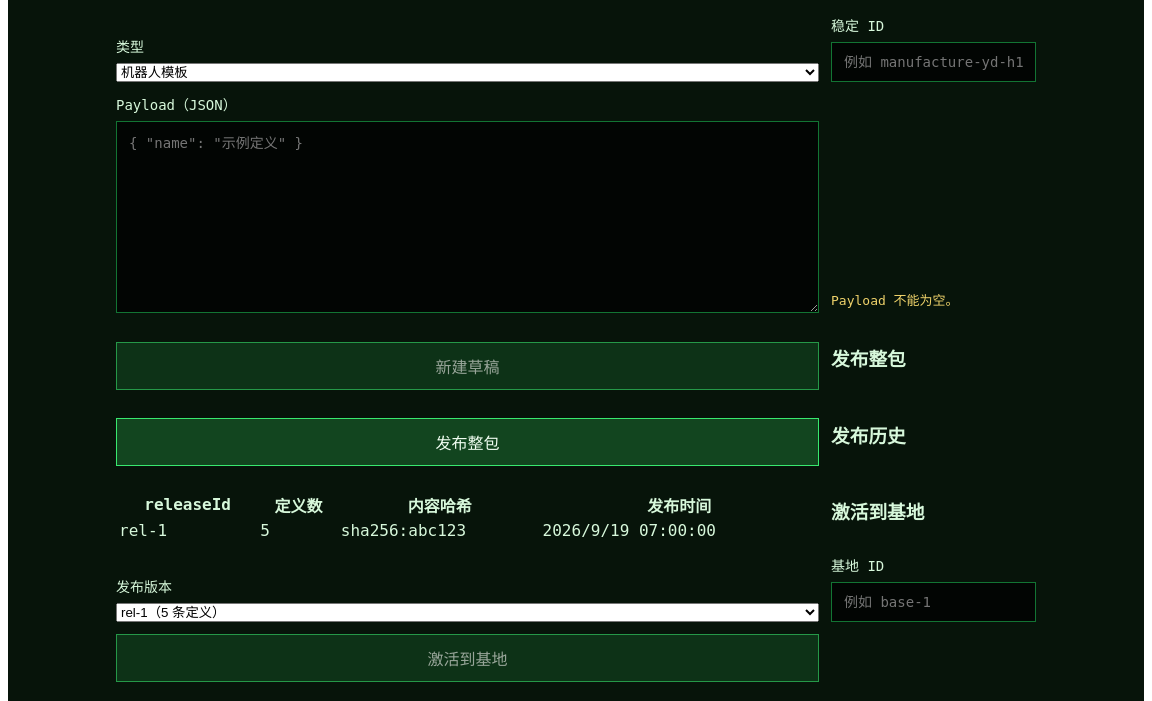
Test: ContentAdminPanel › activates a release to a base with the contract body
(page scrolled)
expect the text "rel-1" is shown: met, box [118,520,257,541]
Select "rel-1（5 条定义）" in the dropdown named "发布版本" at (468, 612), box [116,603,819,622]
Type " base-9 " into the field labelled "基地 ID" at (934, 602), box [831,582,1036,622]
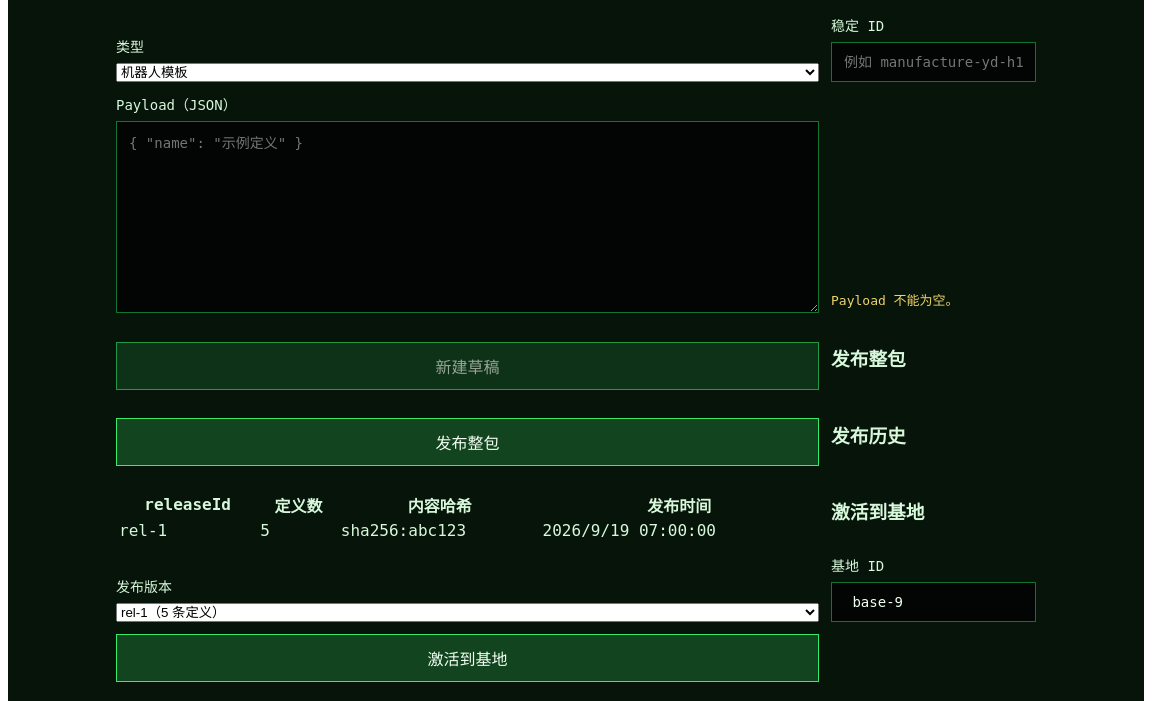
expect the button "激活到基地" is enabled: met
Click the button "激活到基地" at (468, 658), box [116,634,819,682]
(page scrolled)
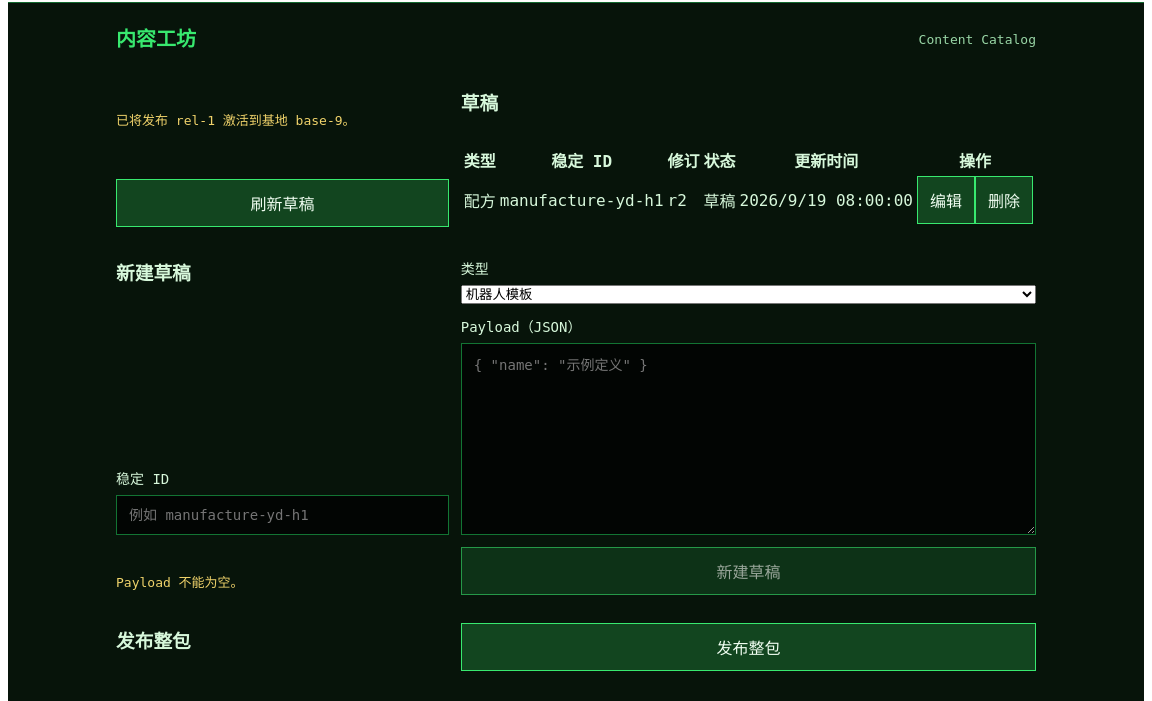
expect the text "已将发布 rel-1 激活到基地 base-9。" is shown: met, box [116,113,356,128]
